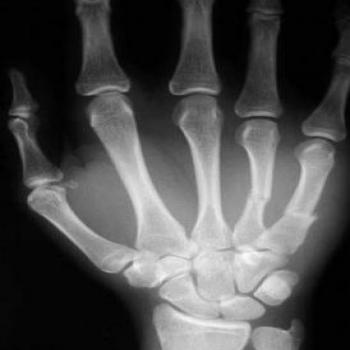Fracture: (282, 204, 331, 227), (241, 188, 278, 209)
